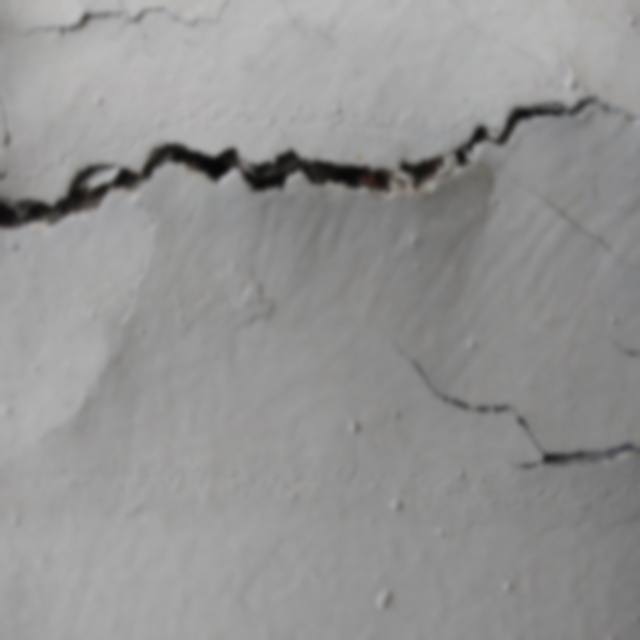SurfaceCrack: (376, 313, 639, 491)
